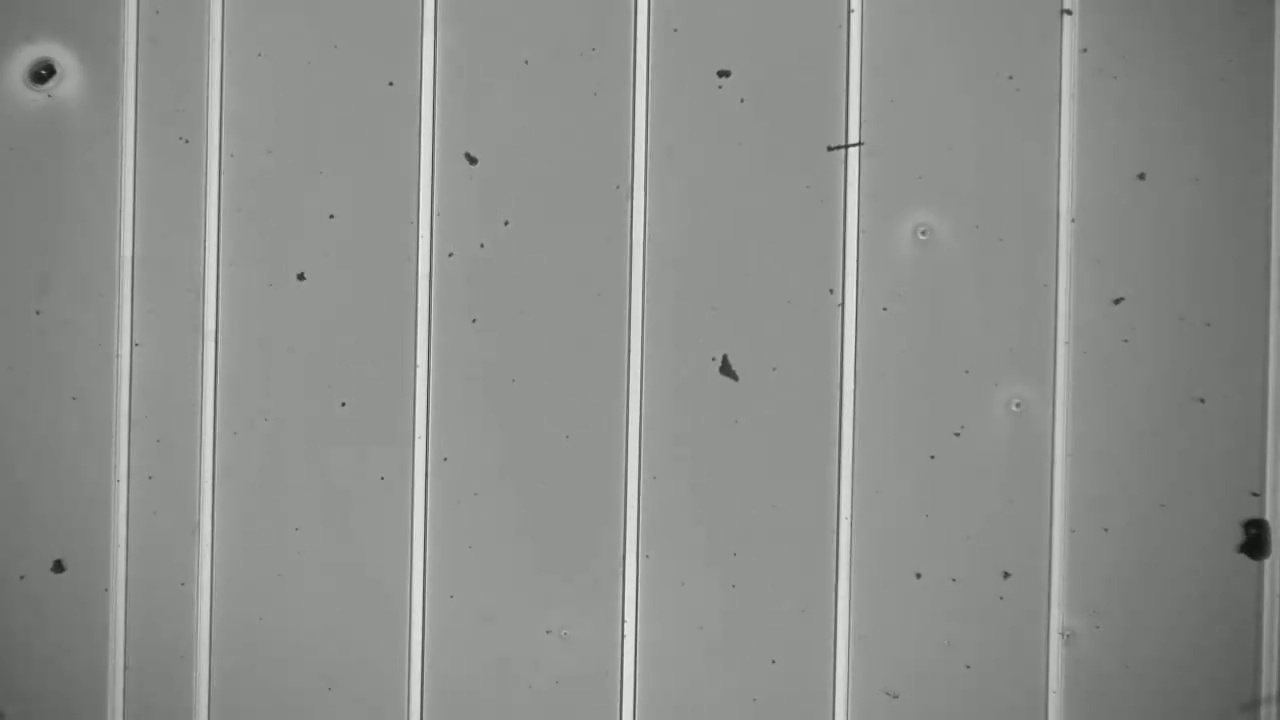scratch: (815, 134, 874, 159)
stains_enbedded: (1235, 506, 1279, 573)
